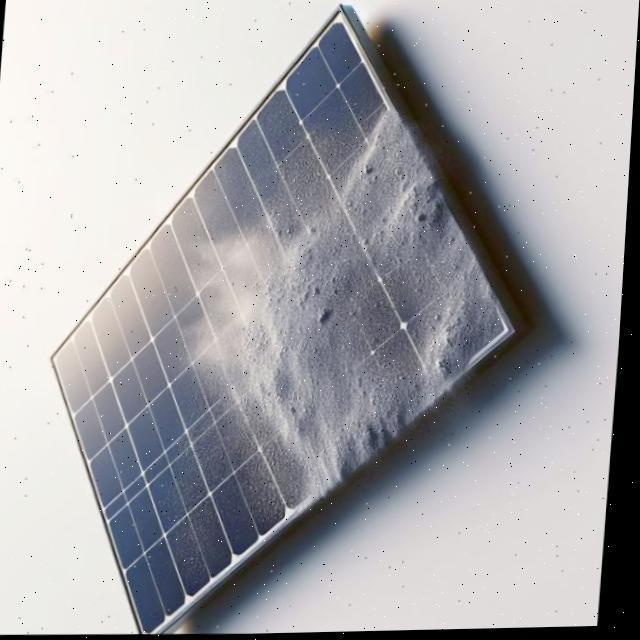Anomaly Solar Panel: (0, 11, 591, 634)
Surface Contaminant: (6, 49, 538, 588)
